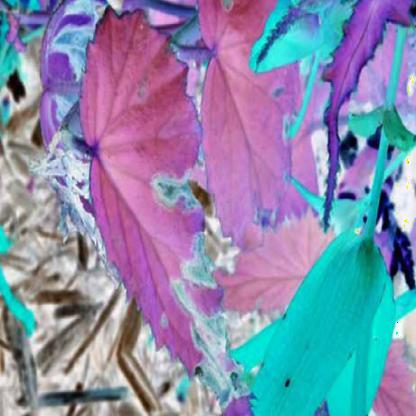tomato leaf bacterial spot: (71, 19, 237, 396)
